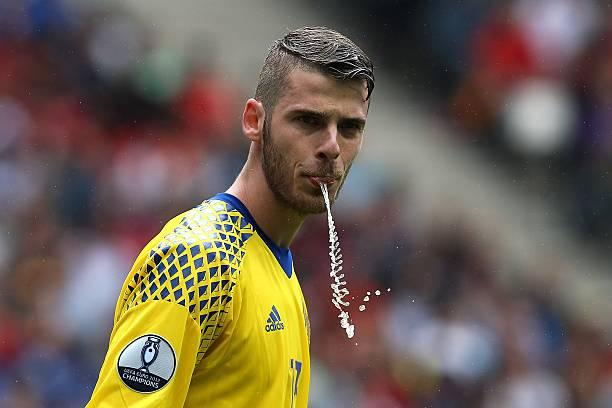Spitting: (236, 20, 388, 298)
